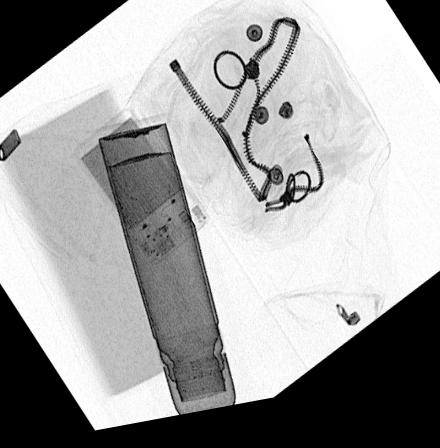Powerbank: (71, 111, 208, 274)
